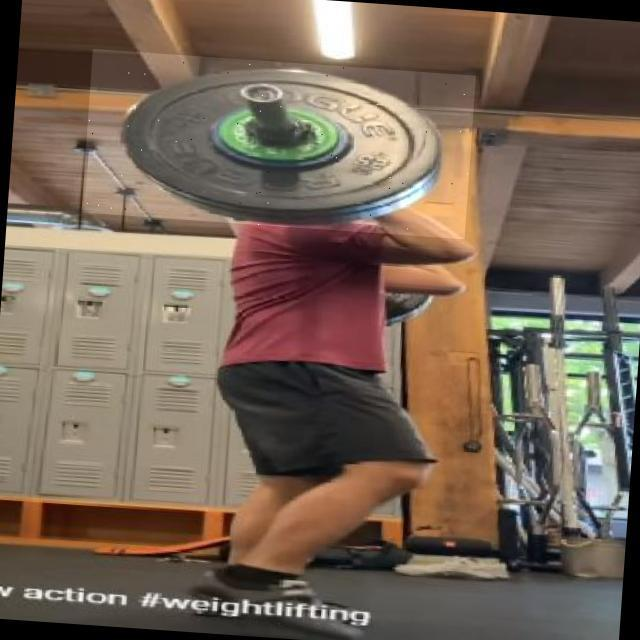barbell: (82, 50, 477, 240)
